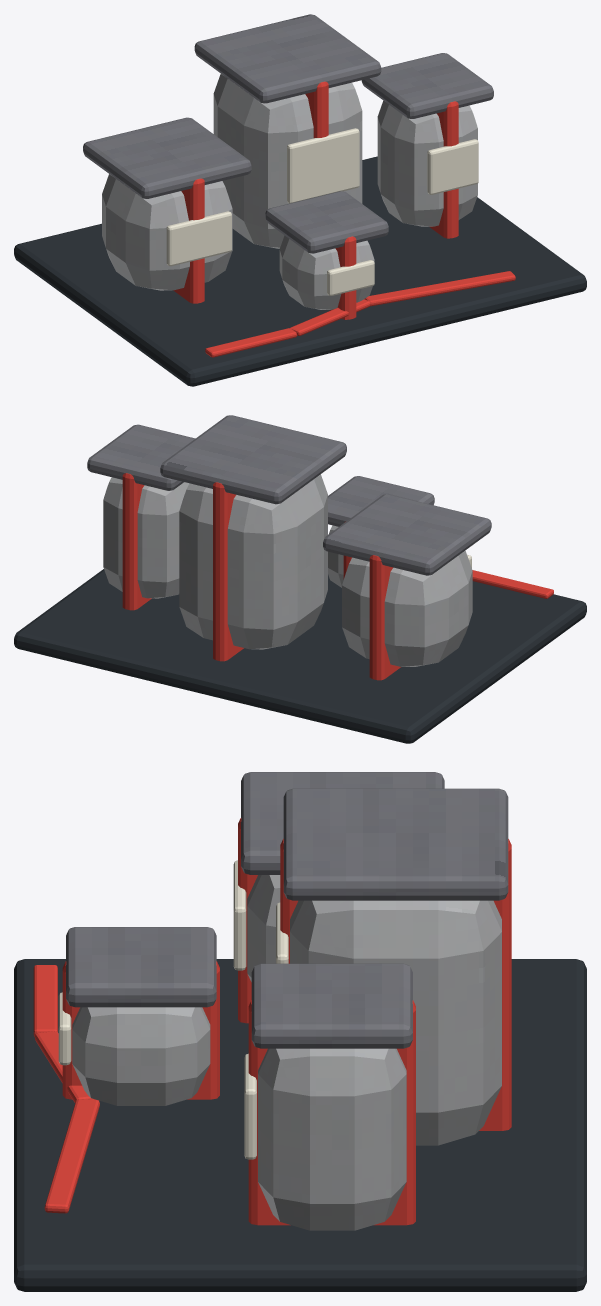
File: cult_offering_cache.glb
3 renders of one model, top to bottom at view 1: azimuth 30°, elevation 25°; view 2: azimuth 150°, elevation 25°; view 3: azimuth 270°, elevation 25°, orthographic. The views are drawn at different scales.
Parts seen in each view (by area): view 1: CULT_OFFERING_CACHE__Folded_Cloth, CULT_OFFERING_CACHE__Tin_1, CULT_OFFERING_CACHE__Tin_Lid_1, CULT_OFFERING_CACHE__Tin_Lid_0, CULT_OFFERING_CACHE__Tin_0, CULT_OFFERING_CACHE__Tin_2, CULT_OFFERING_CACHE__Tin_Lid_2, CULT_OFFERING_CACHE__Tin_Lid_3, CULT_OFFERING_CACHE__Blank_Label_1, CULT_OFFERING_CACHE__Tin_3, CULT_OFFERING_CACHE__Blank_Label_0, CULT_OFFERING_CACHE__Blank_Label_2 (+8 smaller); view 2: CULT_OFFERING_CACHE__Folded_Cloth, CULT_OFFERING_CACHE__Tin_1, CULT_OFFERING_CACHE__Tin_0, CULT_OFFERING_CACHE__Tin_Lid_1, CULT_OFFERING_CACHE__Tin_Lid_0, CULT_OFFERING_CACHE__Tin_2, CULT_OFFERING_CACHE__Tin_Lid_2, CULT_OFFERING_CACHE__Red_Wrap_1, CULT_OFFERING_CACHE__Tin_Lid_3, CULT_OFFERING_CACHE__Red_Wrap_2, CULT_OFFERING_CACHE__Red_Wrap_0, CULT_OFFERING_CACHE__Binding_Trail_0 (+1 smaller); view 3: CULT_OFFERING_CACHE__Folded_Cloth, CULT_OFFERING_CACHE__Tin_1, CULT_OFFERING_CACHE__Tin_2, CULT_OFFERING_CACHE__Tin_Lid_1, CULT_OFFERING_CACHE__Tin_Lid_2, CULT_OFFERING_CACHE__Tin_3, CULT_OFFERING_CACHE__Tin_Lid_3, CULT_OFFERING_CACHE__Tin_Lid_0, CULT_OFFERING_CACHE__Red_Wrap_2, CULT_OFFERING_CACHE__Red_Wrap_1, CULT_OFFERING_CACHE__Binding_Trail_2, CULT_OFFERING_CACHE__Tin_0 (+7 smaller).
Part boxes in pixels (x1,y1,x2,y2): CULT_OFFERING_CACHE__Folded_Cloth: [14, 156, 586, 386]; CULT_OFFERING_CACHE__Tin_1: [213, 74, 362, 248]; CULT_OFFERING_CACHE__Tin_Lid_1: [194, 14, 381, 103]; CULT_OFFERING_CACHE__Tin_Lid_0: [83, 117, 251, 198]; CULT_OFFERING_CACHE__Tin_0: [102, 174, 232, 290]; CULT_OFFERING_CACHE__Tin_2: [377, 100, 477, 226]; CULT_OFFERING_CACHE__Tin_Lid_2: [361, 53, 493, 118]; CULT_OFFERING_CACHE__Tin_Lid_3: [265, 191, 388, 253]; CULT_OFFERING_CACHE__Blank_Label_1: [287, 128, 359, 203]; CULT_OFFERING_CACHE__Tin_3: [279, 235, 374, 309]; CULT_OFFERING_CACHE__Blank_Label_0: [166, 211, 231, 266]; CULT_OFFERING_CACHE__Blank_Label_2: [427, 139, 478, 194]; CULT_OFFERING_CACHE__Folded_Cloth: [14, 569, 586, 743]; CULT_OFFERING_CACHE__Tin_1: [179, 474, 327, 649]; CULT_OFFERING_CACHE__Tin_0: [342, 550, 472, 666]; CULT_OFFERING_CACHE__Tin_Lid_1: [160, 415, 346, 504]; CULT_OFFERING_CACHE__Tin_Lid_0: [323, 494, 491, 575]; CULT_OFFERING_CACHE__Tin_2: [103, 477, 189, 598]; CULT_OFFERING_CACHE__Tin_Lid_2: [87, 424, 195, 490]; CULT_OFFERING_CACHE__Red_Wrap_1: [213, 482, 243, 661]; CULT_OFFERING_CACHE__Tin_Lid_3: [328, 476, 434, 526]; CULT_OFFERING_CACHE__Red_Wrap_2: [122, 473, 151, 610]; CULT_OFFERING_CACHE__Red_Wrap_0: [369, 555, 400, 680]; CULT_OFFERING_CACHE__Binding_Trail_0: [472, 570, 553, 598]; CULT_OFFERING_CACHE__Folded_Cloth: [14, 959, 586, 1291]; CULT_OFFERING_CACHE__Tin_1: [290, 900, 501, 1145]; CULT_OFFERING_CACHE__Tin_2: [258, 1048, 406, 1230]; CULT_OFFERING_CACHE__Tin_Lid_1: [283, 788, 508, 900]; CULT_OFFERING_CACHE__Tin_Lid_2: [251, 963, 412, 1048]; CULT_OFFERING_CACHE__Tin_3: [72, 1007, 210, 1105]; CULT_OFFERING_CACHE__Tin_Lid_3: [66, 927, 216, 1007]; CULT_OFFERING_CACHE__Tin_Lid_0: [241, 772, 444, 874]; CULT_OFFERING_CACHE__Red_Wrap_2: [248, 1000, 415, 1225]; CULT_OFFERING_CACHE__Red_Wrap_1: [280, 839, 511, 1130]; CULT_OFFERING_CACHE__Binding_Trail_2: [44, 1099, 99, 1213]; CULT_OFFERING_CACHE__Tin_0: [247, 875, 280, 981].
Bounding box in the file's own units: 0.7 × 0.3325 × 0.54.
5 materials, 2 textured.
